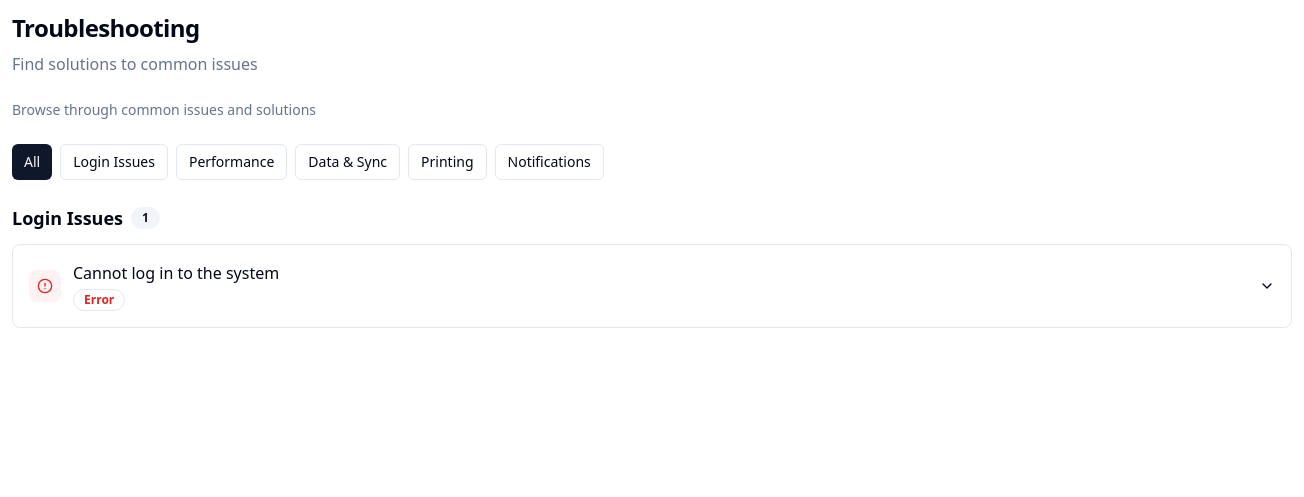
Test: TroubleshootingSection › Search Highlighting › highlights matching text in solutions
Expand to show solutions
Click the text "Cannot log in to the system" at (176, 273), box x1=73 y1=261 x2=279 y2=285
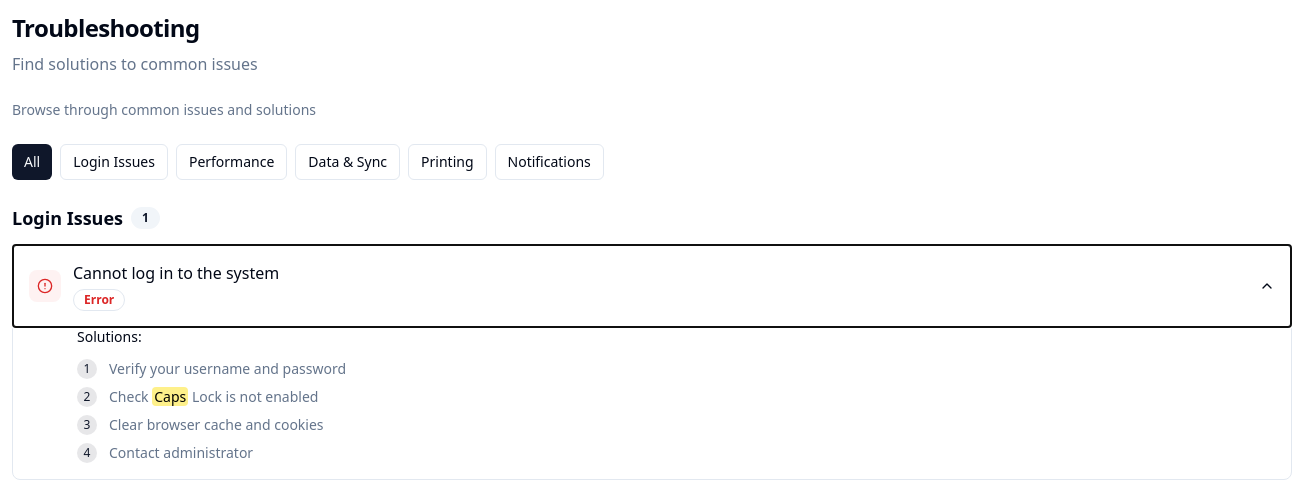
Expected: the text "Caps" is shown, x1=152 y1=387 x2=188 y2=406
